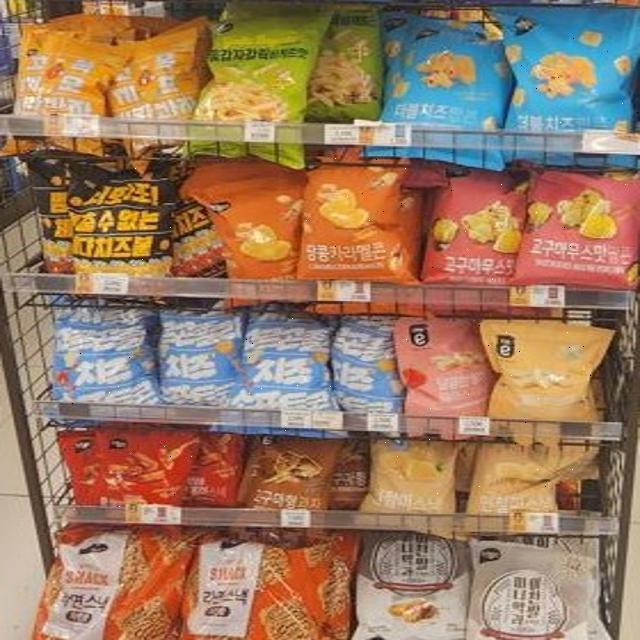product: (382, 12, 509, 161), (508, 15, 638, 150), (68, 164, 177, 289), (301, 155, 407, 282), (528, 168, 637, 282), (239, 303, 342, 422), (486, 322, 598, 429), (432, 162, 527, 283), (395, 314, 488, 426), (56, 307, 154, 411), (475, 440, 577, 525), (157, 303, 233, 411), (244, 430, 330, 525), (362, 434, 457, 519), (106, 429, 193, 509)
